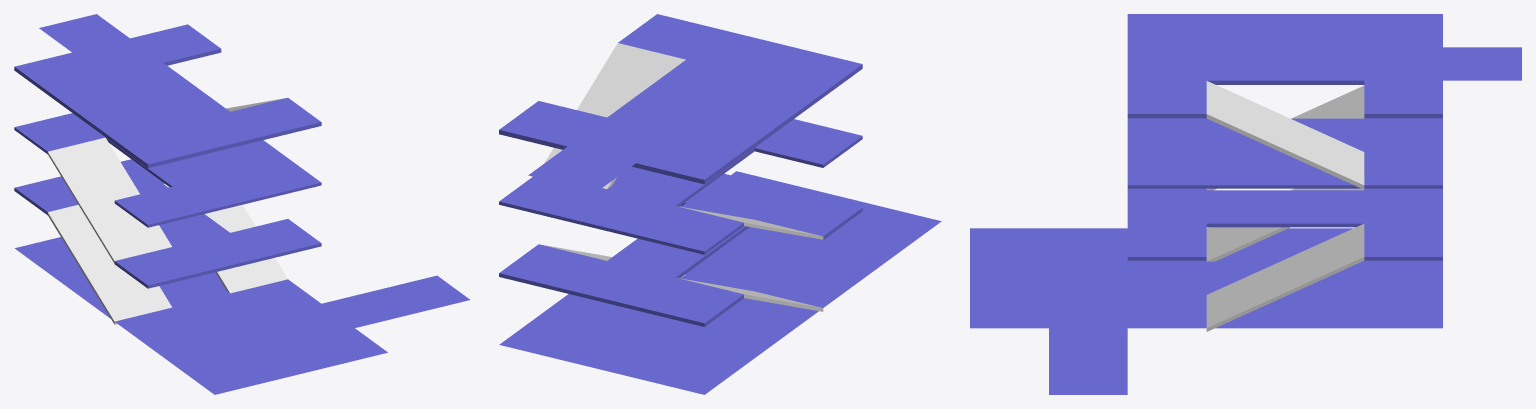
The model's file is Environment_Stairwell_Floor_BaseMesh.fbx.
3 views of the same model, side by side, from view 1: azimuth 30°, elevation 25°; view 2: azimuth 150°, elevation 25°; view 3: azimuth 270°, elevation 25° (orthographic). The views are drawn at different scales.
Visible parts, largest first — view 1: Environment_Stairwell_Floor_BaseMesh; view 2: Environment_Stairwell_Floor_BaseMesh; view 3: Environment_Stairwell_Floor_BaseMesh.
Boxes of the visible parts, x1=… form: Environment_Stairwell_Floor_BaseMesh: x1=14, y1=14, x2=469, y2=394; Environment_Stairwell_Floor_BaseMesh: x1=499, y1=14, x2=941, y2=394; Environment_Stairwell_Floor_BaseMesh: x1=970, y1=14, x2=1521, y2=394.
Bounding box in the file's own units: 2000 × 1221 × 2800.
